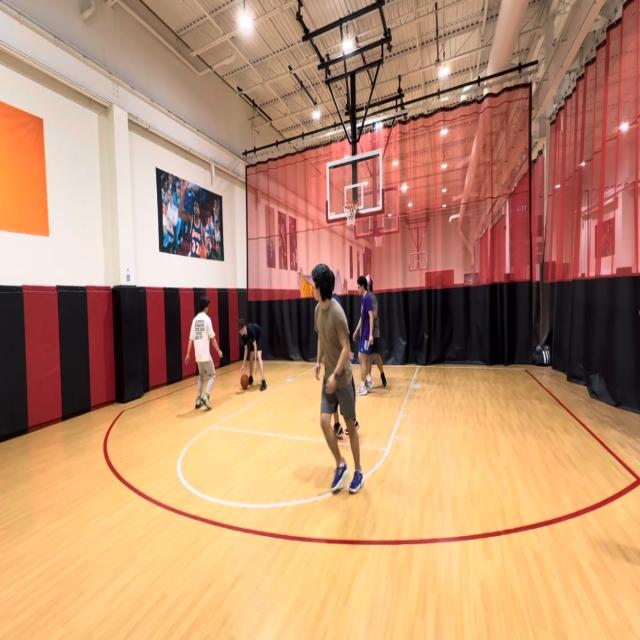Basketball: (241, 373, 249, 389)
Basketball Rim: (342, 201, 358, 227)
